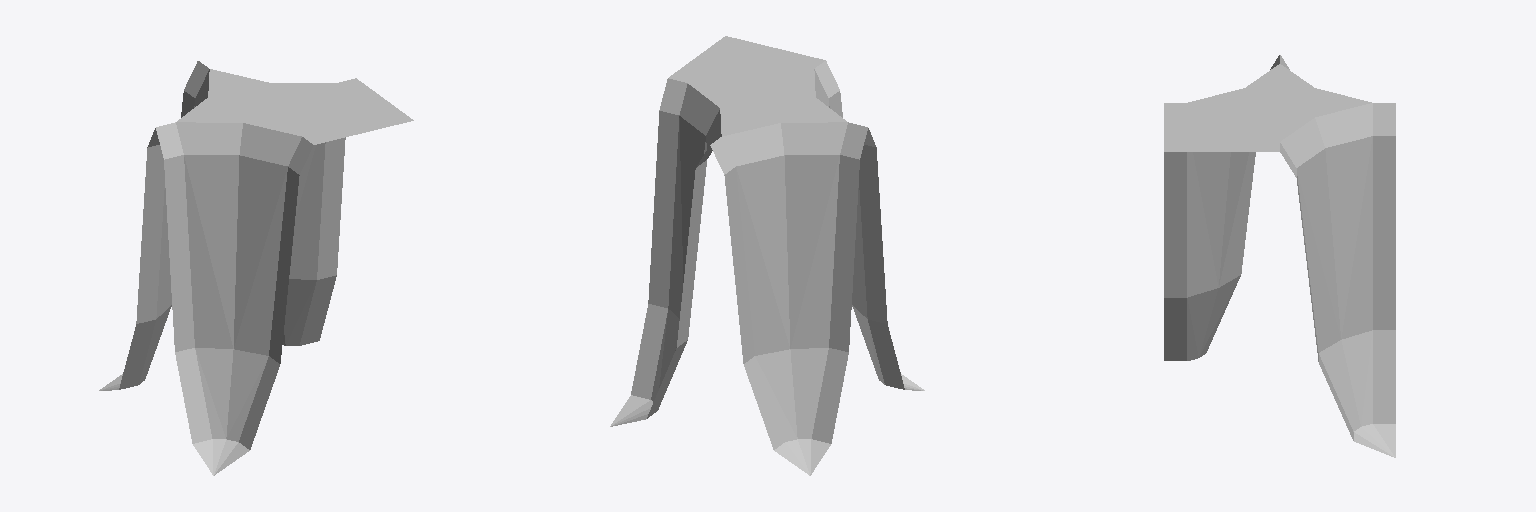
The model's file is wall_10.obj.
The picture shows the model from 3 angles: view 1: azimuth 30°, elevation 25°; view 2: azimuth 150°, elevation 25°; view 3: azimuth 270°, elevation 25°; orthographic projection.
Visible parts, largest first — view 1: wall_10_Cave_Wall_Inner.020; view 2: wall_10_Cave_Wall_Inner.020; view 3: wall_10_Cave_Wall_Inner.020.
Part boxes in pixels (x1,y1,x2,y2): wall_10_Cave_Wall_Inner.020: (99, 61, 413, 475); wall_10_Cave_Wall_Inner.020: (610, 36, 924, 475); wall_10_Cave_Wall_Inner.020: (1164, 55, 1395, 457).
Bounding box in the file's own units: 1 × 1.46 × 1.